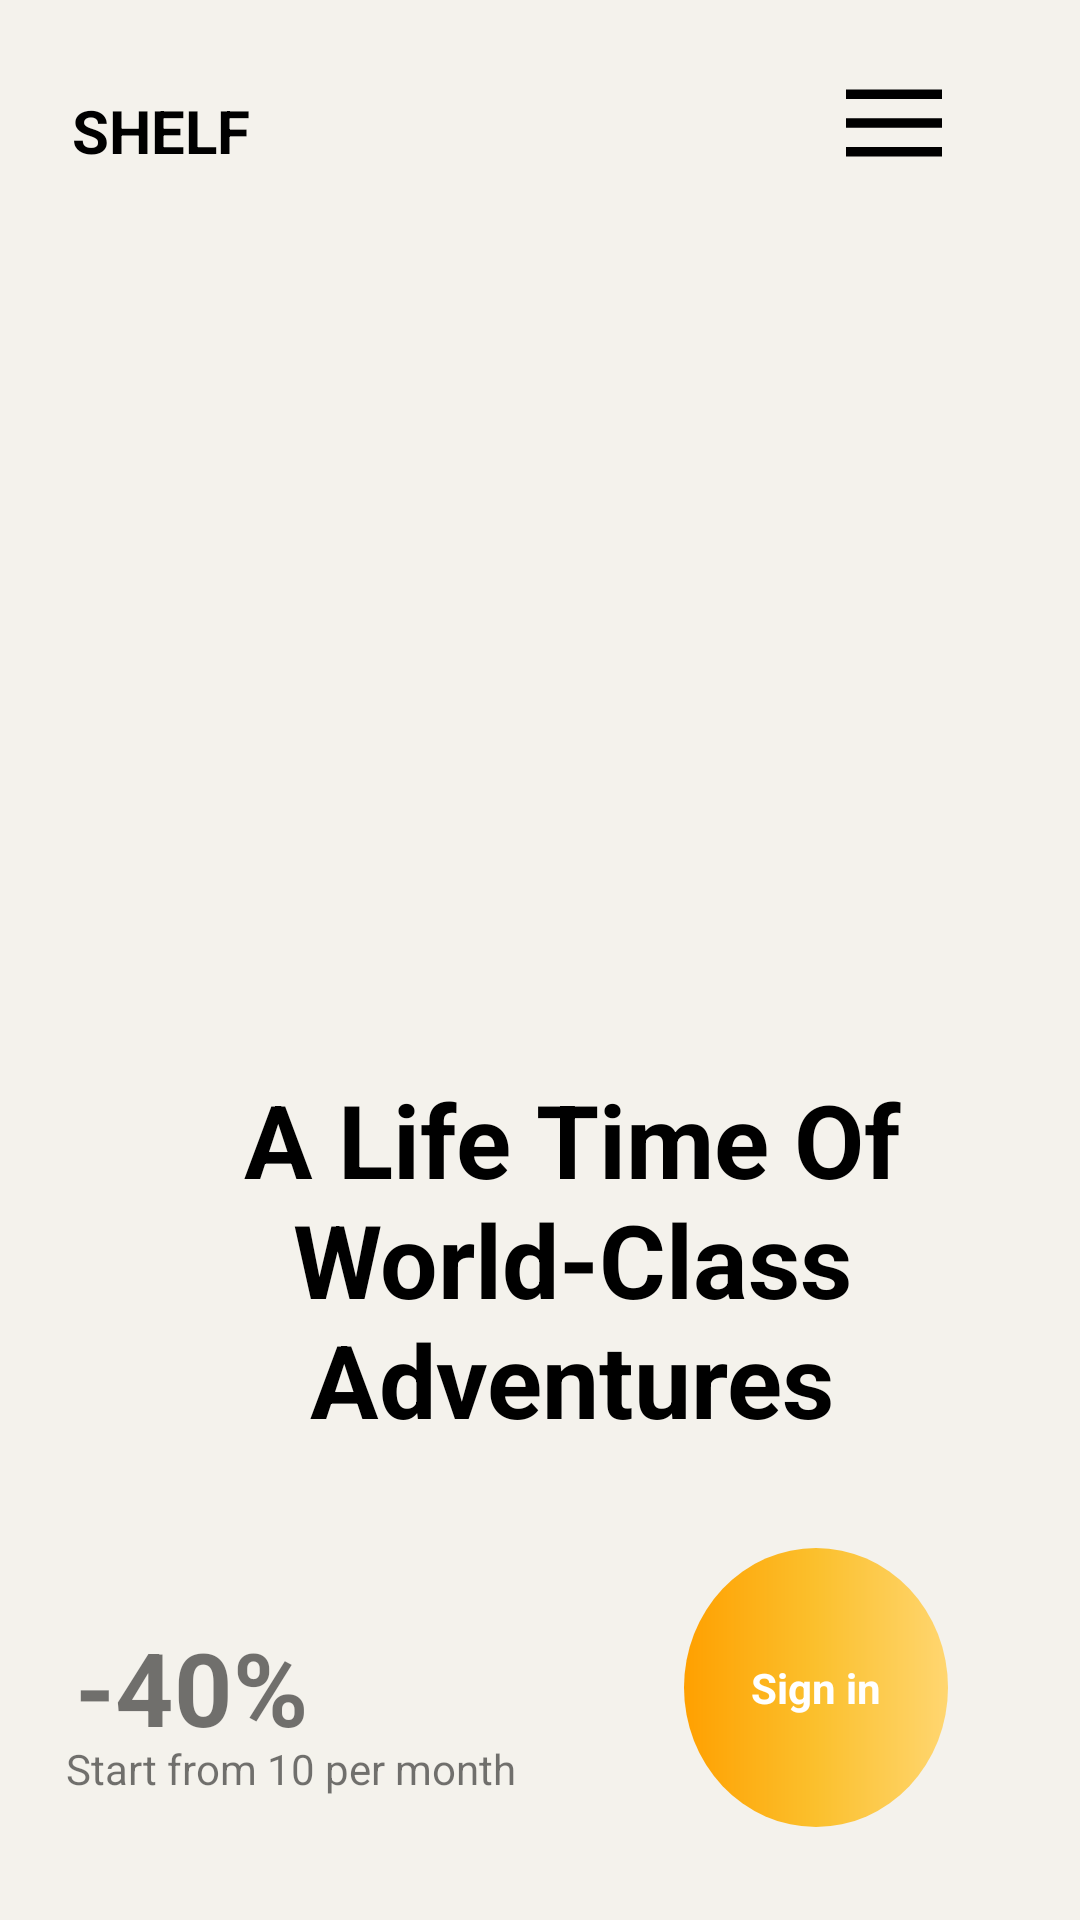

Point at icon controls on the screen. Image size 1080x1920, points as [x,y].
menu: [894,123]
